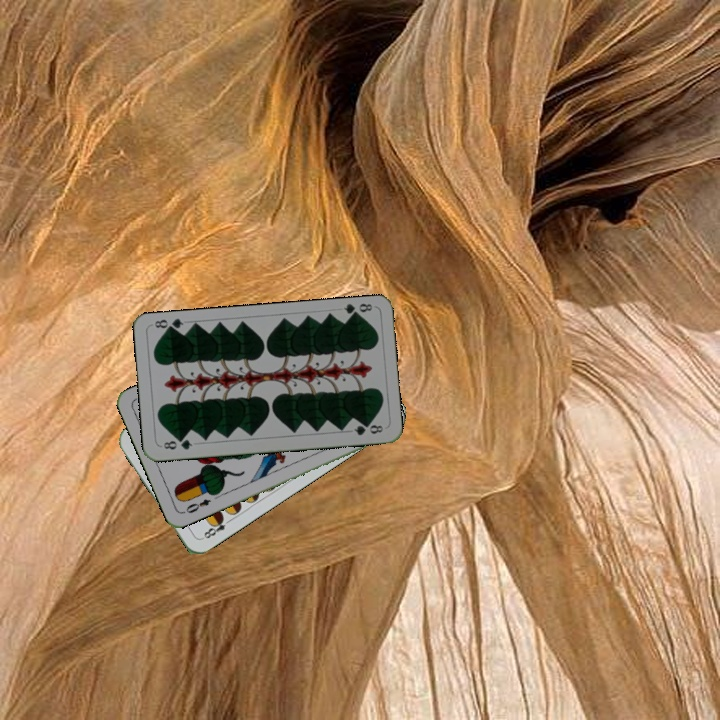E8: (198, 513, 234, 542)
EO: (179, 495, 213, 516)
G8: (340, 299, 375, 320), (159, 435, 195, 452)
